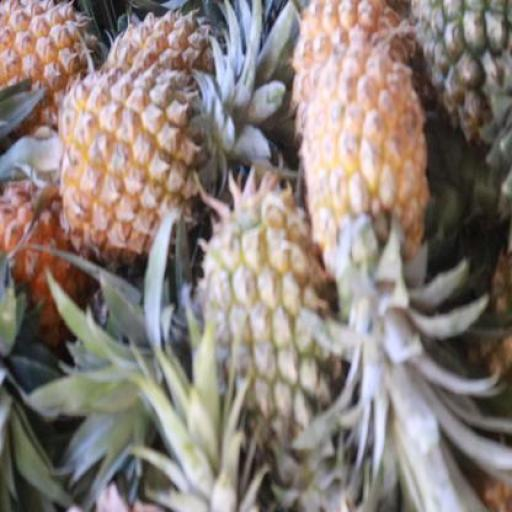------------------------------: (196, 186, 341, 436)
Pineapple - v8 v1: (311, 61, 425, 305), (60, 73, 198, 254)
